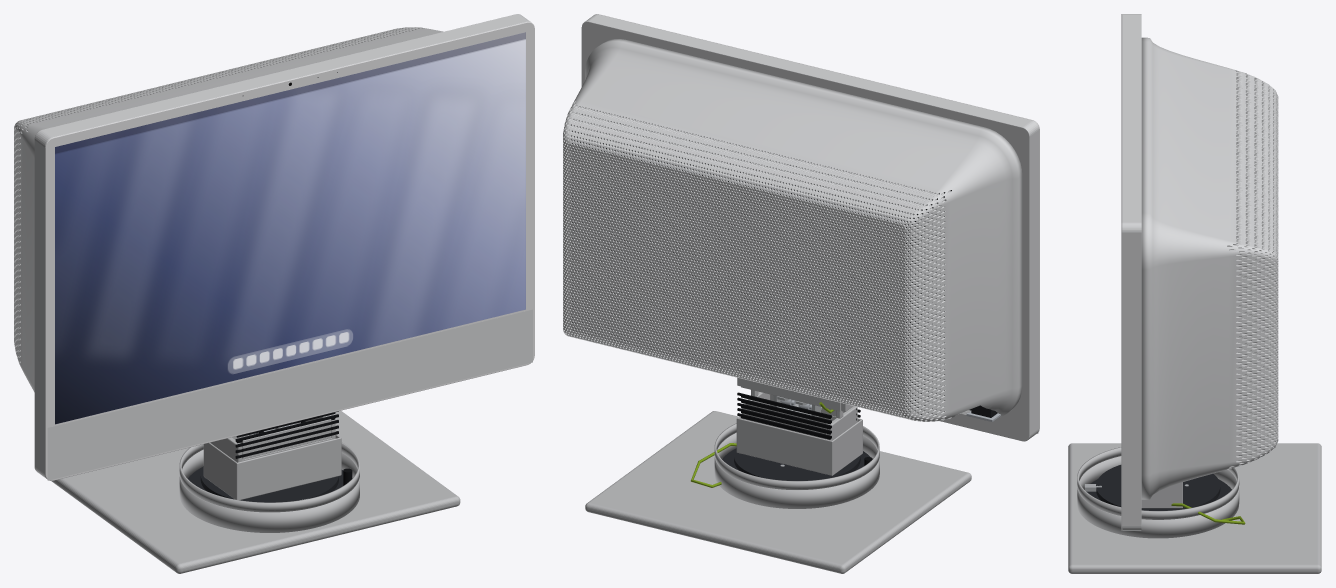
File: imac_pc.v018__2026-11-07_6ece3b2.glb
3 renders of one model, left to right at view 1: azimuth 30°, elevation 25°; view 2: azimuth 150°, elevation 25°; view 3: azimuth 270°, elevation 25°, orthographic. The views are drawn at different scales.
Parts seen in each view (by area): view 1: display, chin_print, stand_foot, front_glass, cover_back, slab, stand_neck_shroud, stand_skirt, stand_neck_collar, stand_swivel_rotor, stand_neck_tab; view 2: cover_back, stand_foot, slab, cover_filter, stand_neck_shroud, stand_skirt, stand_neck_collar, stand_swivel_rotor, hinge_cover, front_glass; view 3: cover_back, stand_foot, slab, stand_skirt, stand_swivel_rotor, stand_neck_collar, front_glass, stand_neck_shroud.
Part boxes in pixels (x1,y1,x2,y2): display: (55, 32, 525, 424); chin_print: (47, 309, 532, 480); stand_foot: (51, 410, 460, 573); front_glass: (45, 22, 534, 480); cover_back: (14, 27, 443, 392); slab: (34, 14, 530, 478); stand_neck_shroud: (203, 434, 341, 500); stand_skirt: (179, 449, 359, 532); stand_neck_collar: (179, 442, 359, 512); stand_swivel_rotor: (200, 466, 338, 502); stand_neck_tab: (241, 419, 331, 459); cover_back: (563, 39, 1022, 421); stand_foot: (585, 411, 971, 573); slab: (581, 14, 1039, 441); cover_filter: (569, 106, 971, 414); stand_neck_shroud: (736, 416, 862, 475); stand_skirt: (714, 432, 879, 508); stand_neck_collar: (714, 423, 879, 489); stand_swivel_rotor: (734, 448, 860, 480); hinge_cover: (741, 378, 840, 411); front_glass: (595, 14, 1039, 432); cover_back: (1141, 37, 1278, 499); stand_foot: (1068, 443, 1321, 573); slab: (1122, 14, 1141, 530); stand_skirt: (1077, 456, 1239, 538); stand_swivel_rotor: (1096, 465, 1220, 510); stand_neck_collar: (1077, 447, 1239, 519); front_glass: (1121, 14, 1122, 530); stand_neck_shroud: (1141, 482, 1182, 508).
Size of the model in its own units: 620 by 535 by 310.
Materials: 67 (4 with a texture image).
